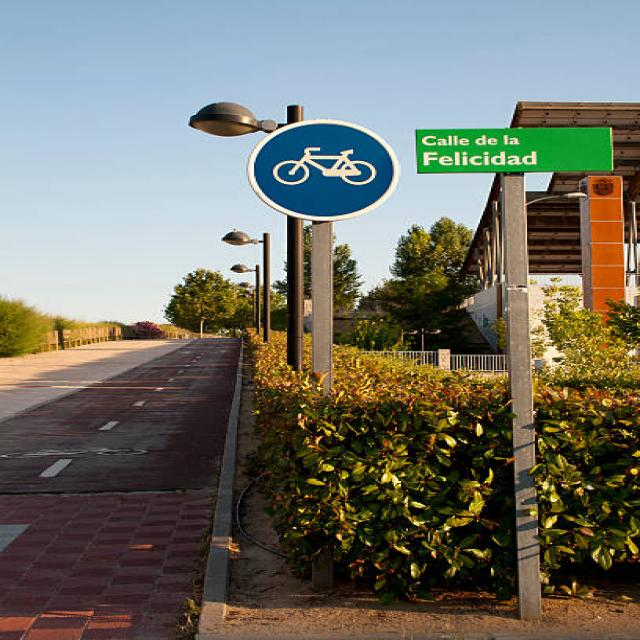bicycle: (245, 118, 402, 229)
